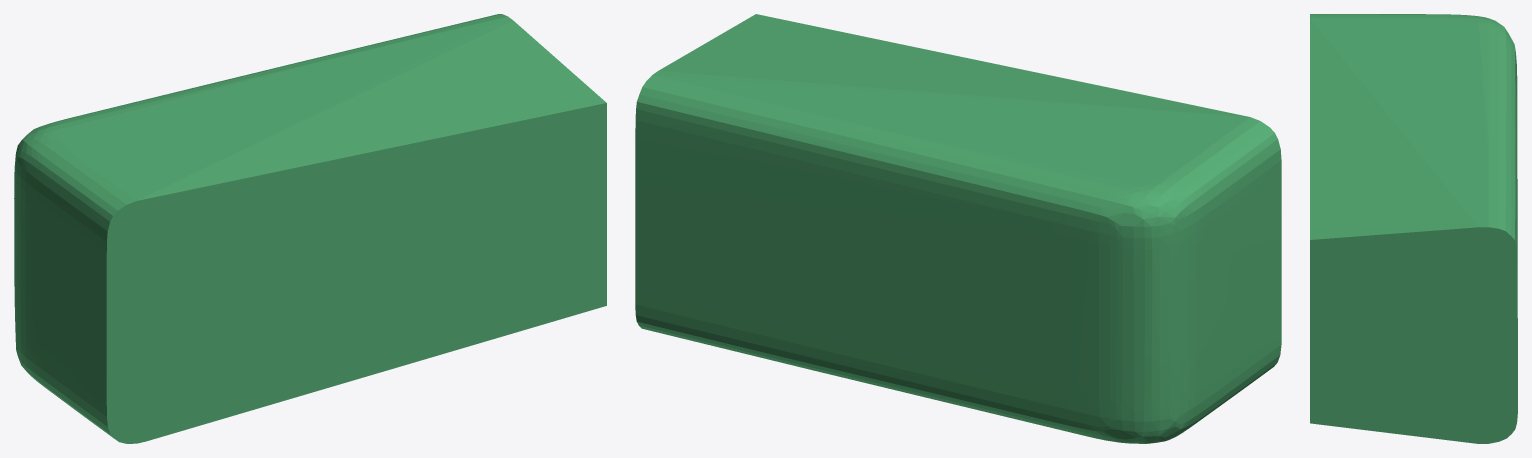
3 renders of one model, left to right at view 1: azimuth 30°, elevation 25°; view 2: azimuth 150°, elevation 25°; view 3: azimuth 270°, elevation 25°, orthographic. The views are drawn at different scales.
Bounding box in the file's own units: 0.0635 × 0.0295 × 0.0253.
